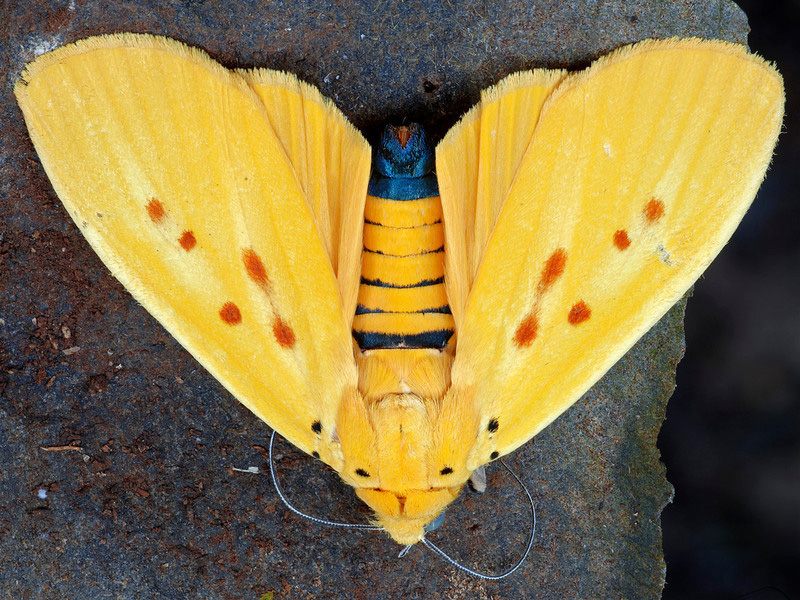Agape chloropyga: (9, 23, 789, 582)
moth: (11, 25, 791, 584)
